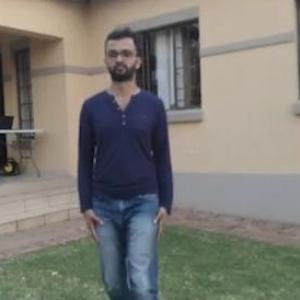follow: (78, 24, 171, 292)
